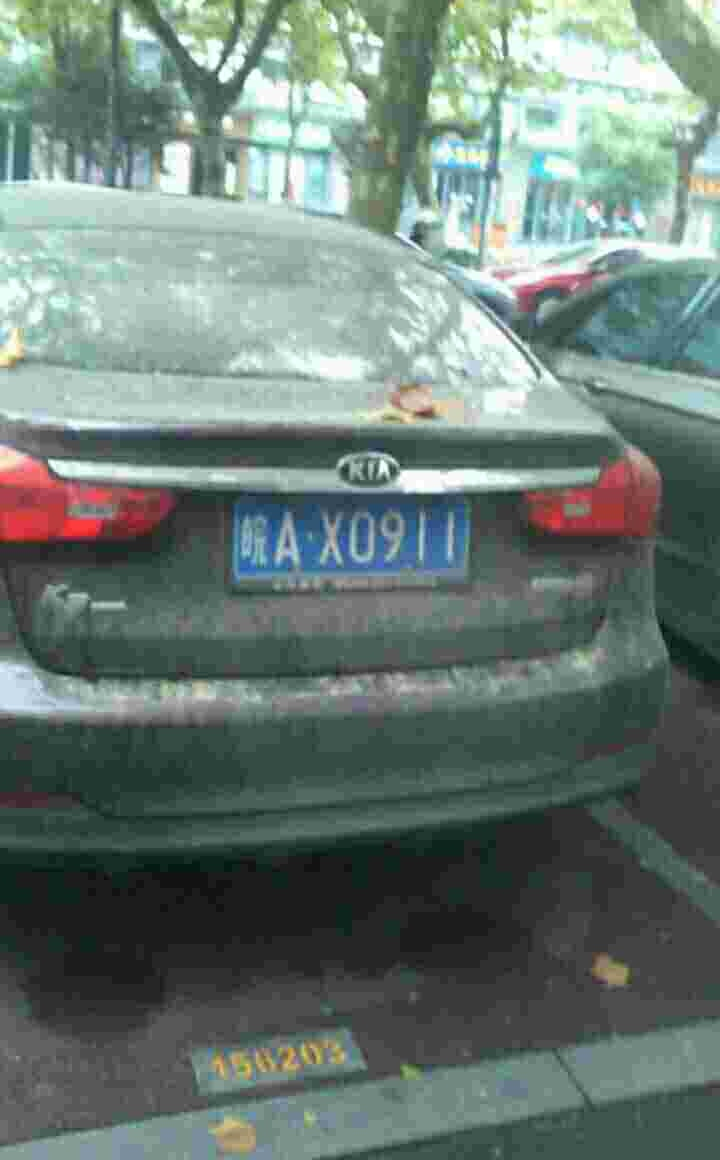license_plate: (236, 503, 463, 578)
